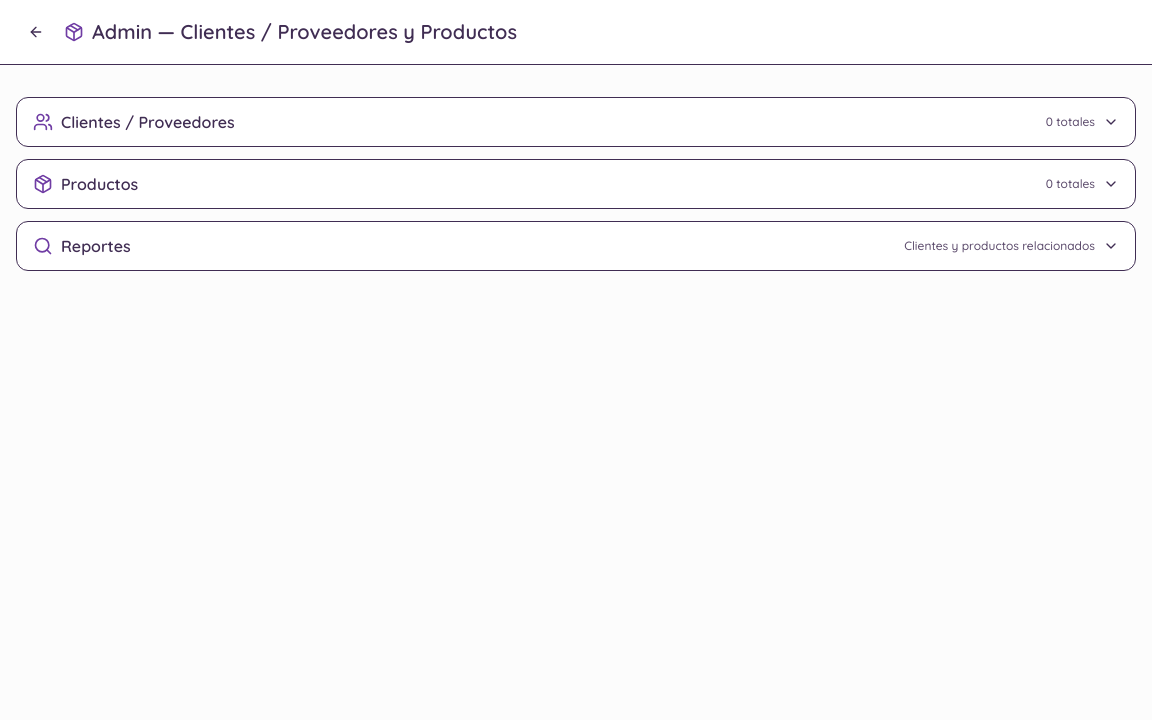
Test: AdminPageClient integration › shows empty state when no clients
Click the button "Clientes / Proveedores 0 totales" at (148, 122), box [17,98,1135,146]
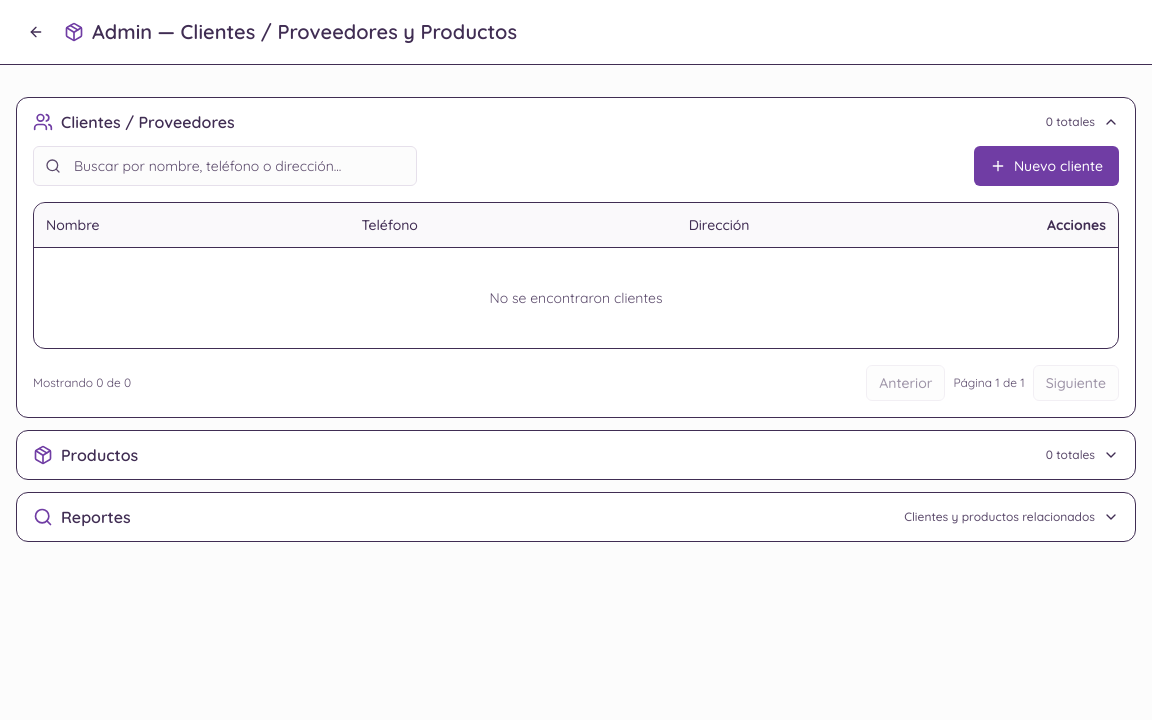
Check: the field with placeholder "Buscar por nombre, teléfono o dirección..." is shown, box [33,146,417,186]
